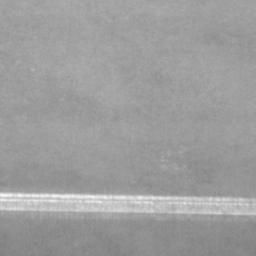Bright scratch: (0, 193, 256, 218)
